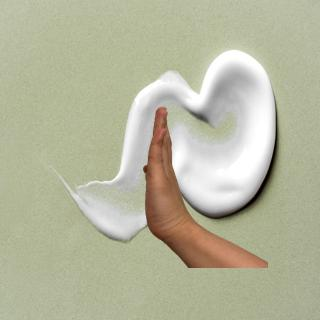RIGHT: (135, 107, 199, 247)
